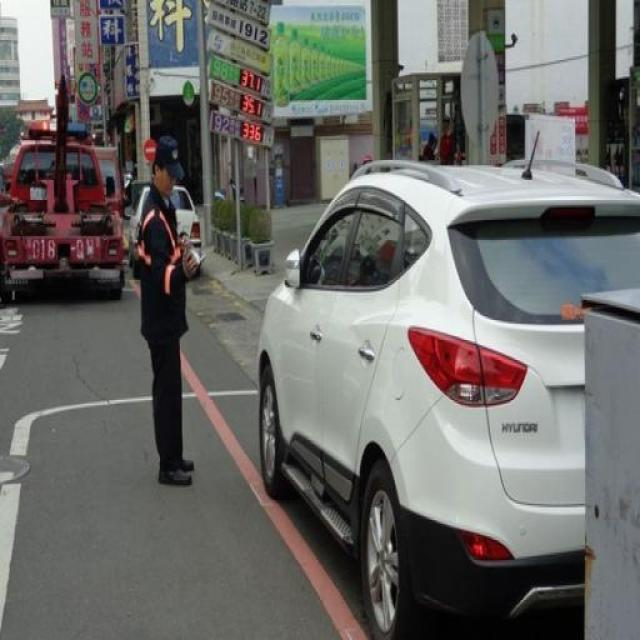illegalparking: (256, 159, 639, 638)
